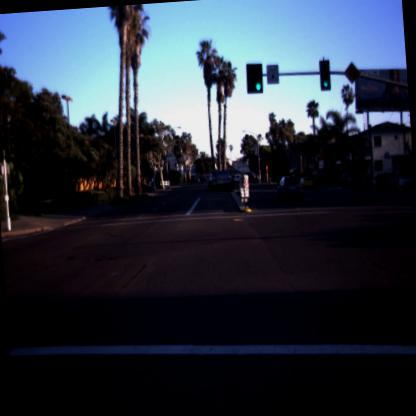trafficlight: (245, 62, 266, 93), (318, 57, 332, 92)
